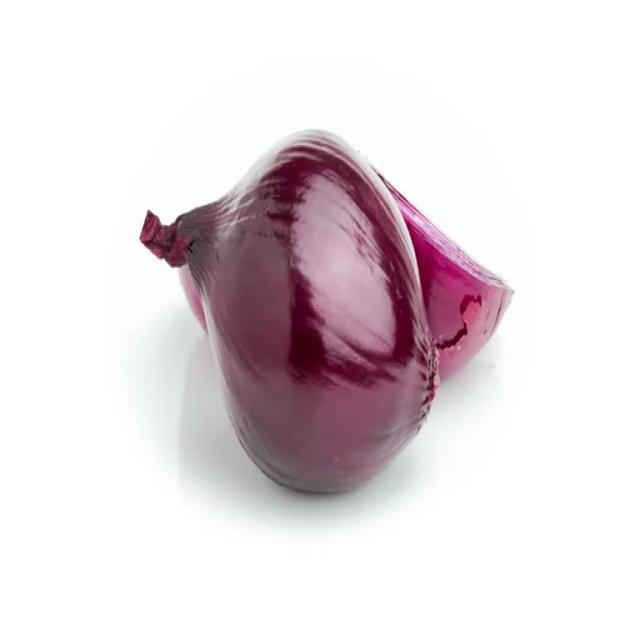onion: (199, 116, 443, 520)
